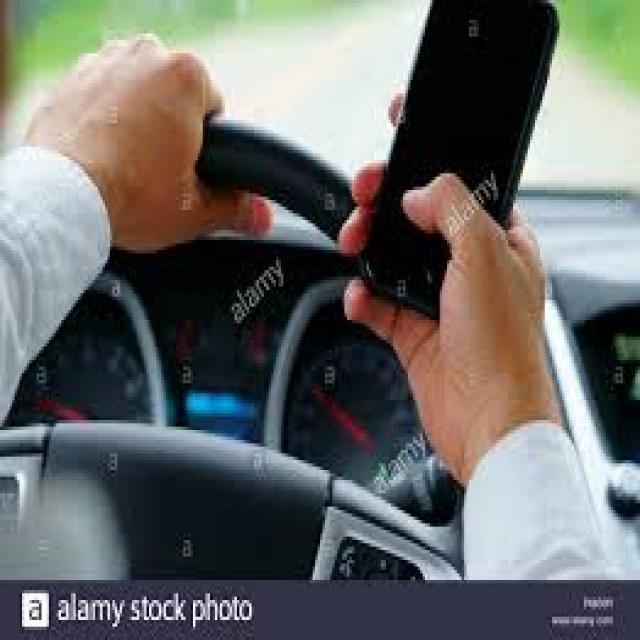Cellphone_texting: (352, 3, 572, 417)
